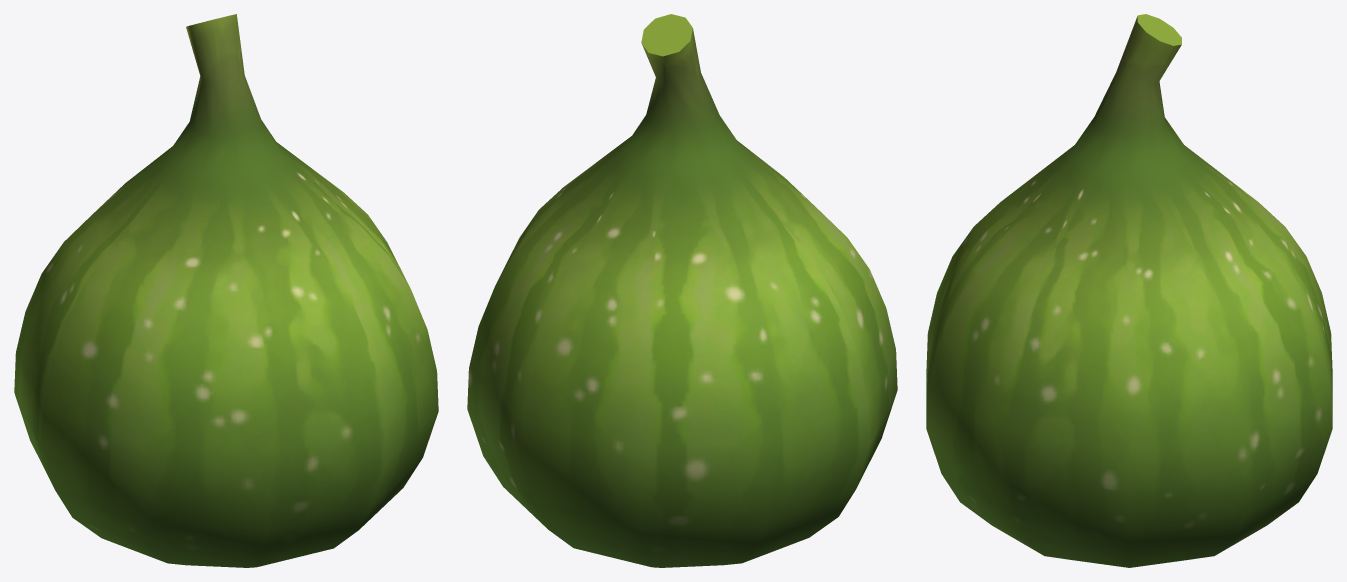
The model's file is Fig_Green.fbx.
The picture shows the model from 3 angles, left to right: view 1: azimuth 30°, elevation 25°; view 2: azimuth 150°, elevation 25°; view 3: azimuth 270°, elevation 25°; orthographic projection.
Parts seen in each view (by area): view 1: Fig_Green; view 2: Fig_Green; view 3: Fig_Green.
Part boxes in pixels (x1,y1,x2,y2): Fig_Green: [14, 14, 438, 567]; Fig_Green: [467, 14, 897, 567]; Fig_Green: [926, 14, 1332, 567].
Bounding box in the file's own units: 26.28 × 35.26 × 24.99.
